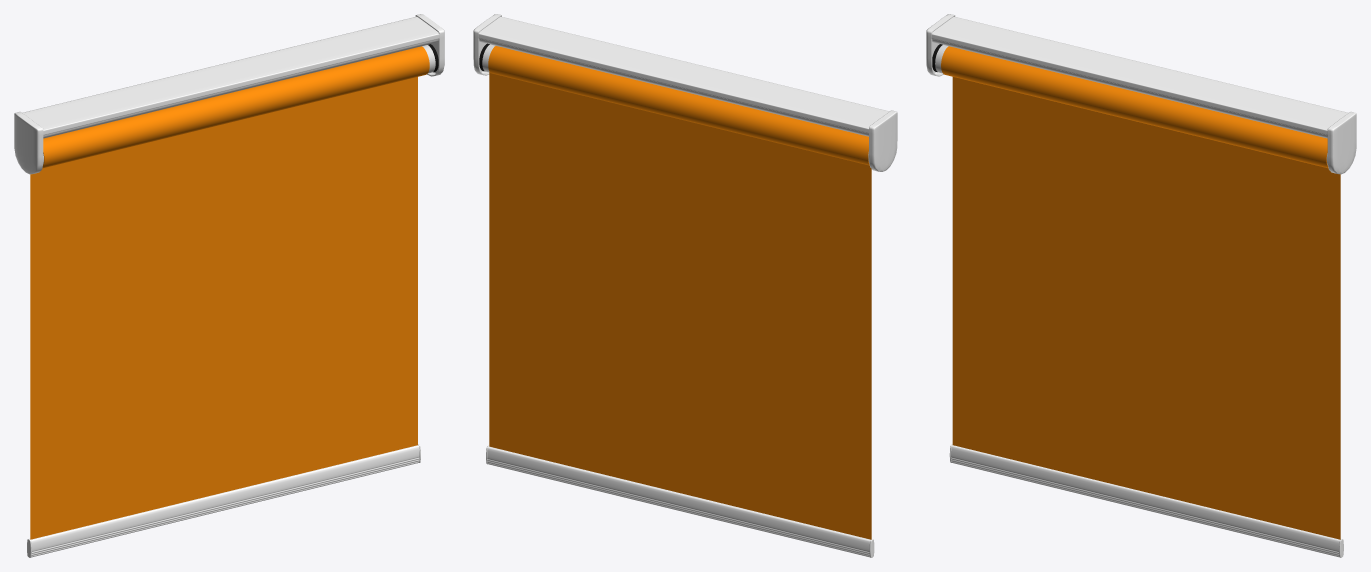
File: Standardrollo mit Traegerprofil.glb
3 views of the same model, side by side, from view 1: azimuth 30°, elevation 25°; view 2: azimuth 150°, elevation 25°; view 3: azimuth 330°, elevation 25° (orthographic).
Visible parts, largest first — view 1: Stoff.001, Trägerprofil.001, Stoffende.001, Cube.002, Cube.007, Cube.004; view 2: Stoff.001, Trägerprofil.001, Stoffende.001, Cube.002, Cube.007, Cube.004; view 3: Stoff.001, Trägerprofil.001, Stoffende.001, Cube.002, Cube.004, Cube.007.
Part boxes in pixels (x1,y1,x2,y2): Stoff.001: (30,77,417,539); Trägerprofil.001: (22,17,439,138); Stoffende.001: (42,46,429,168); Cube.002: (30,445,419,557); Cube.007: (14,112,43,174); Cube.004: (415,14,444,76); Stoff.001: (489,72,871,539); Trägerprofil.001: (478,17,889,136); Stoffende.001: (488,46,869,165); Cube.002: (487,446,870,557); Cube.007: (869,110,897,171); Cube.004: (473,14,501,75); Stoff.001: (952,77,1340,539); Trägerprofil.001: (931,17,1348,138); Stoffende.001: (941,46,1328,168); Cube.002: (951,445,1340,557); Cube.004: (1327,112,1356,174); Cube.007: (926,14,955,76).
Bounding box in the file's own units: 1.25 × 1.3 × 0.1262.
4 materials, 1 textured.
